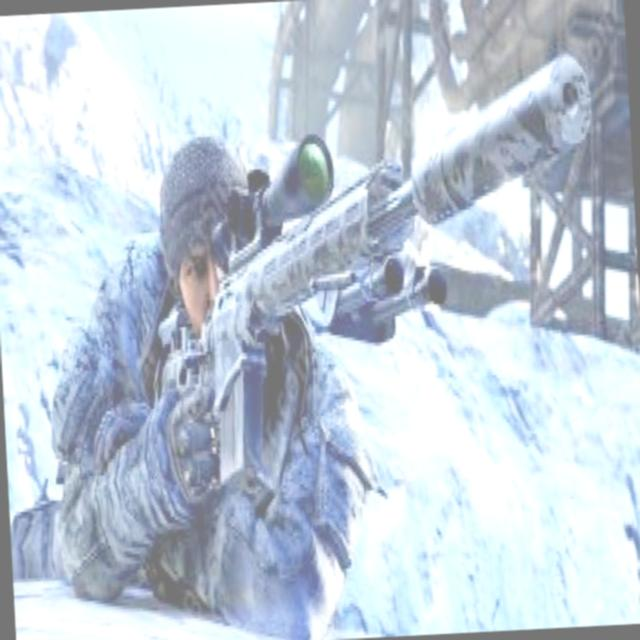rifle: (135, 38, 627, 512)
